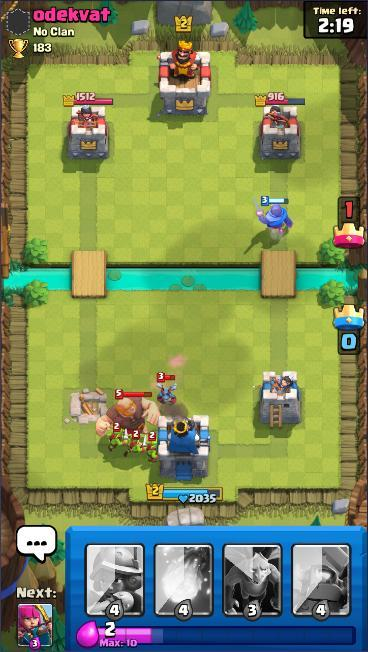EFirespirit: (254, 192, 296, 237)
ESkelBarrel: (93, 388, 163, 444)
ESpearGoblin: (141, 429, 164, 467), (105, 418, 129, 454), (121, 429, 145, 459)
OBeserker: (155, 371, 179, 407)
